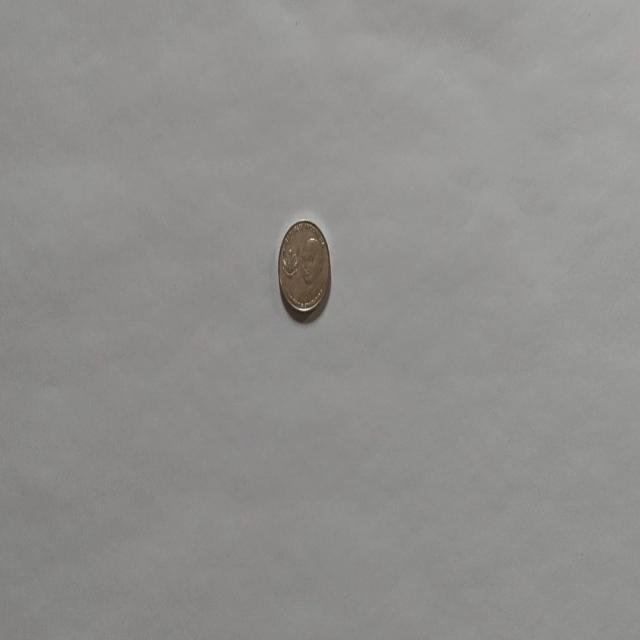lima ratus rupiah: (276, 218, 332, 316)
